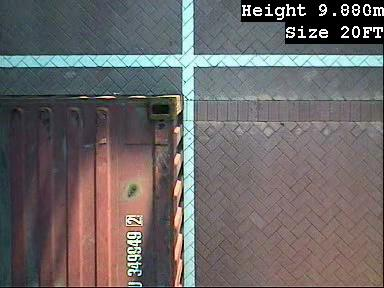groundmarker_2: (1, 97, 89, 172)
